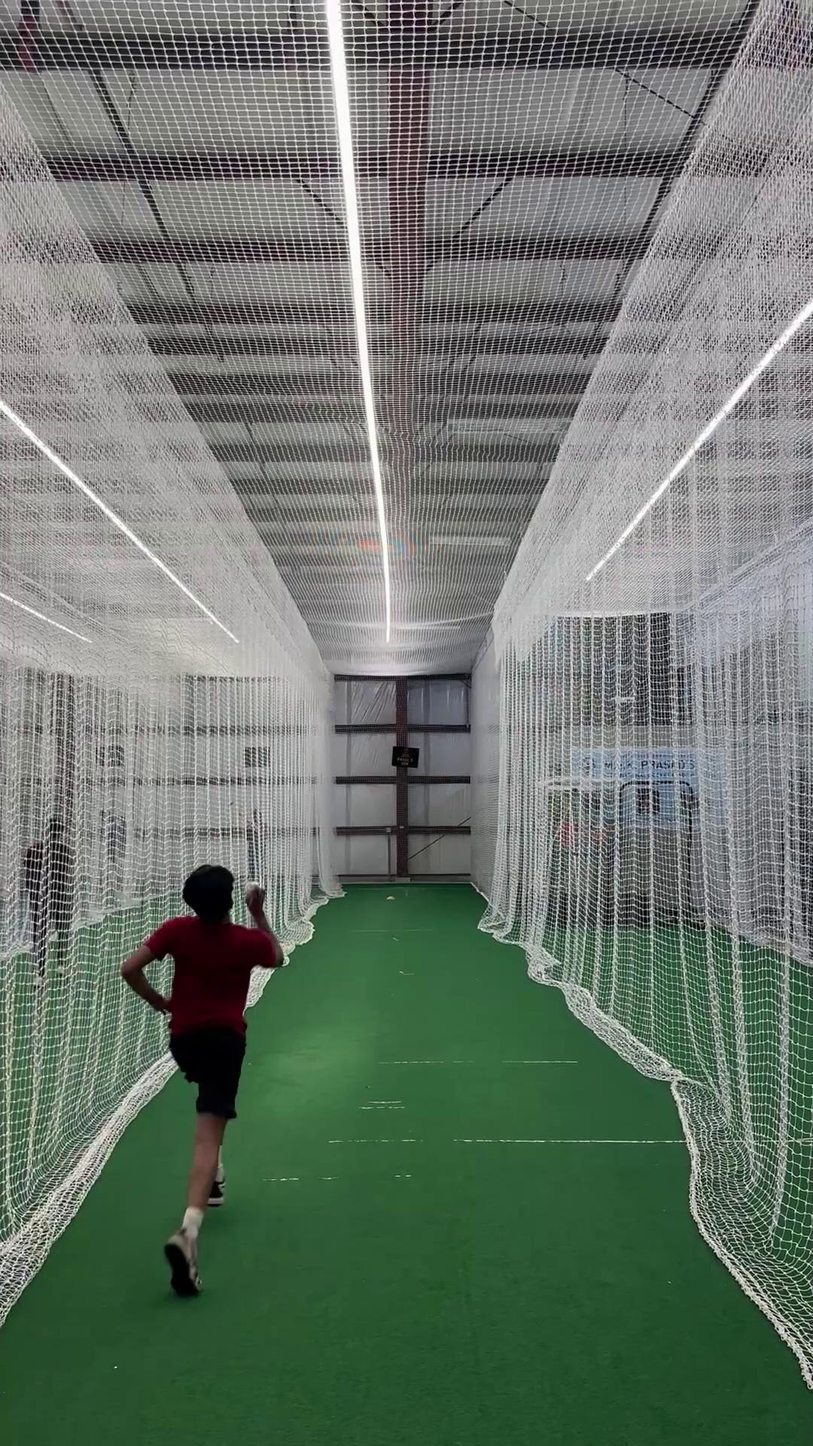ball: (240, 879, 265, 901)
